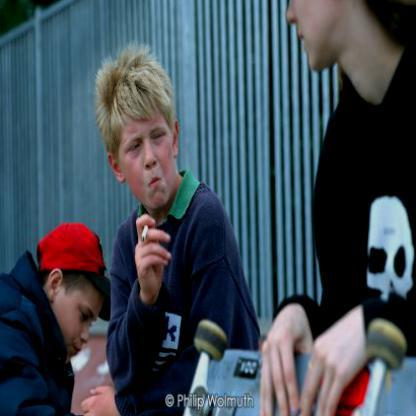cigarette: (140, 222, 151, 243)
person: (91, 43, 262, 416), (276, 0, 415, 384), (0, 216, 116, 415)
